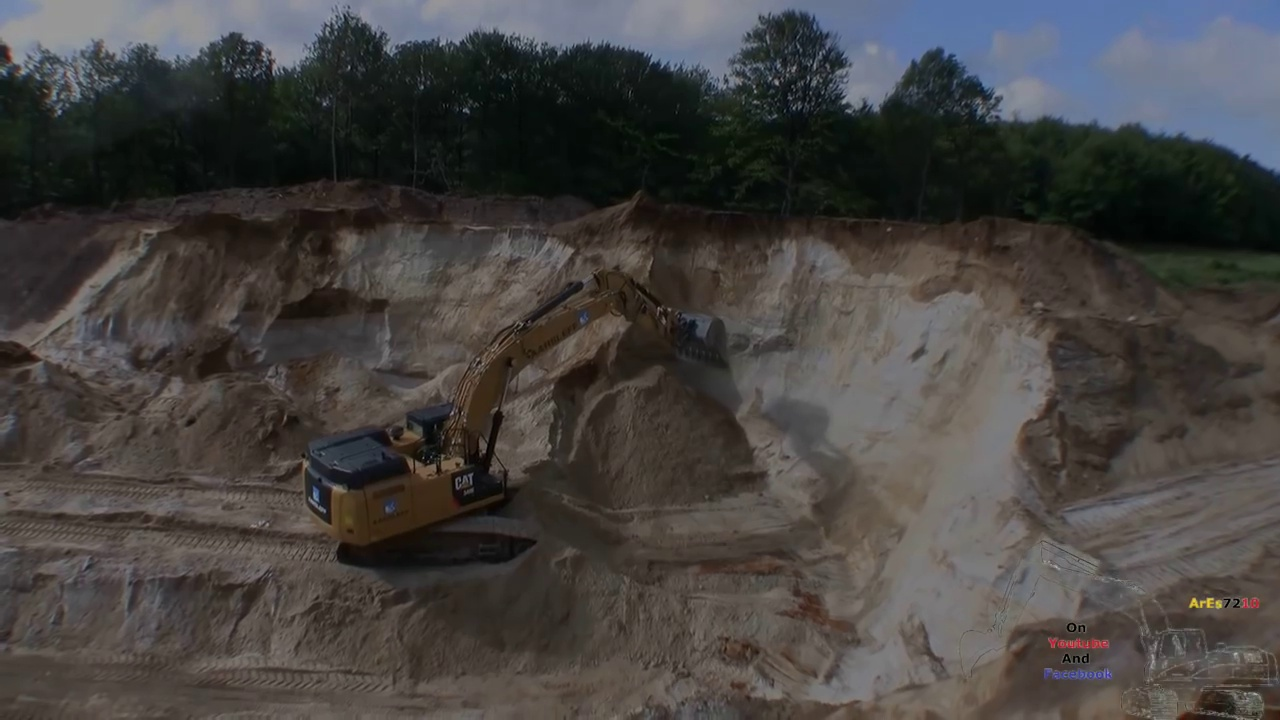excavator: (299, 266, 735, 566)
